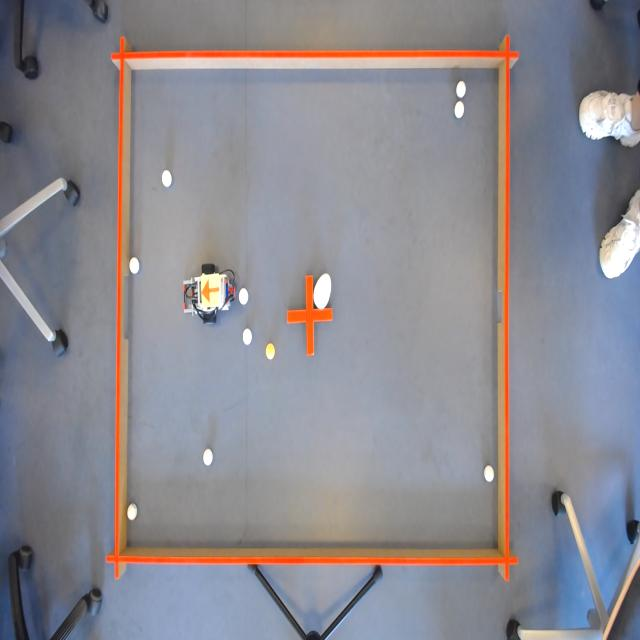cross: (286, 271, 334, 359)
egg: (312, 266, 332, 310)
orange_ball: (266, 339, 278, 364)
robot: (201, 274, 223, 306)
white_ball: (453, 98, 468, 122), (128, 251, 141, 277), (201, 444, 215, 468), (125, 500, 139, 524), (241, 324, 253, 349), (454, 74, 466, 98), (161, 167, 174, 189), (482, 461, 494, 484), (238, 284, 249, 309)
